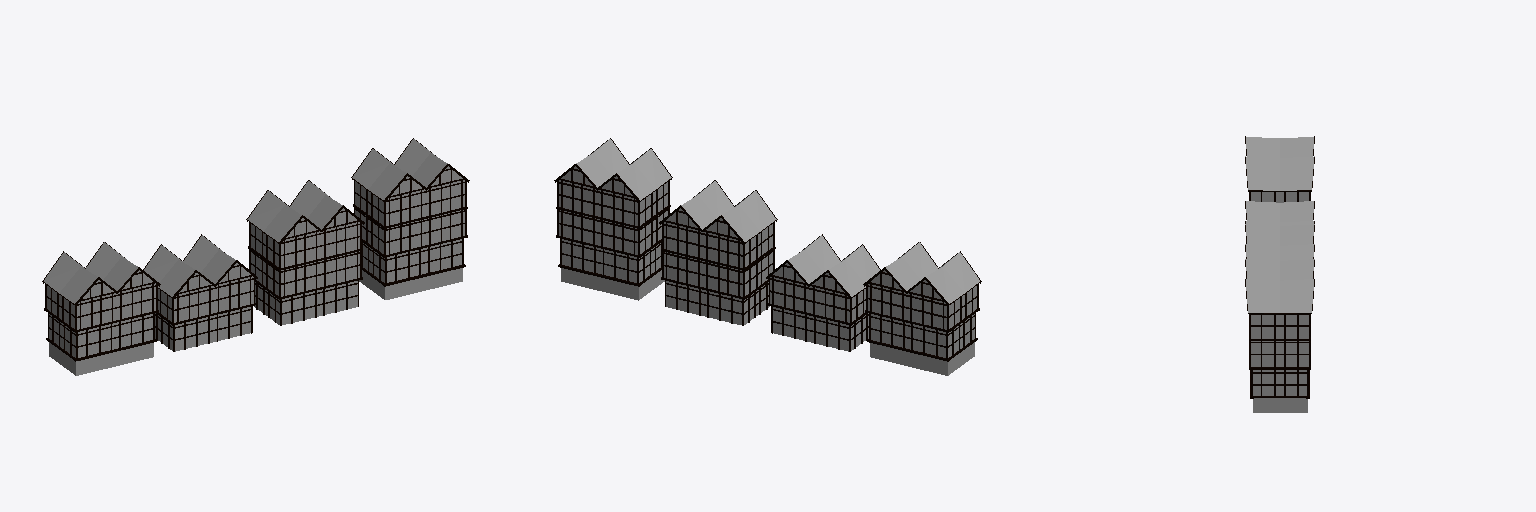
Rendered from HousePack1_2Upload.obj.
3 renders of one model, left to right at view 1: azimuth 30°, elevation 25°; view 2: azimuth 150°, elevation 25°; view 3: azimuth 270°, elevation 25°, orthographic.
Visible parts, largest first — view 1: House3_Roof_Cube.153, House2_Roof_Cube.122, House4_Roof_Cube.181, House1_Roof_Cube.008, House2_Level3_Cube.123, House4_Level3_Cube.180, House3_Level2_Cube.154, House1_Level2_Cube.006, House2_Level2_Cube.129, House3_Level1_Cube.155, House4_Level2_Cube.174, House2_Level1_Cube.124 (+14 smaller); view 2: House4_Roof_Cube.181, House3_Roof_Cube.153, House2_Roof_Cube.122, House1_Roof_Cube.008, House2_Level3_Cube.123, House4_Level3_Cube.180, House3_Level2_Cube.154, House1_Level2_Cube.006, House2_Level2_Cube.129, House3_Level1_Cube.155, House2_Level1_Cube.124, House4_Level1_Cube.179 (+14 smaller); view 3: House3_Roof_Cube.153, House4_Roof_Cube.181, House2_Roof_Cube.122, House1_Roof_Cube.008, House4_Level2_Cube.174, House4_Level3_Cube.180, House4_Level1_Cube.179, House4_Level0_Cube.201.
Boxes of the visible parts, box(x1,y1,x2,y2) form: House3_Roof_Cube.153: box(44, 242, 137, 303); House2_Roof_Cube.122: box(247, 181, 342, 241); House4_Roof_Cube.181: box(352, 139, 447, 199); House1_Roof_Cube.008: box(144, 235, 235, 296); House2_Level3_Cube.123: box(251, 208, 359, 267); House4_Level3_Cube.180: box(355, 166, 464, 225); House3_Level2_Cube.154: box(47, 270, 155, 329); House1_Level2_Cube.006: box(158, 263, 253, 322); House2_Level2_Cube.129: box(251, 251, 359, 296); House3_Level1_Cube.155: box(49, 314, 152, 357); House4_Level2_Cube.174: box(355, 210, 464, 254); House2_Level1_Cube.124: box(254, 281, 357, 324); House4_Roof_Cube.181: box(576, 139, 671, 200); House3_Roof_Cube.153: box(886, 242, 979, 303); House2_Roof_Cube.122: box(681, 181, 776, 241); House1_Roof_Cube.008: box(788, 235, 879, 296); House2_Level3_Cube.123: box(664, 208, 772, 267); House4_Level3_Cube.180: box(559, 166, 667, 225); House3_Level2_Cube.154: box(868, 270, 976, 329); House1_Level2_Cube.006: box(770, 263, 865, 322); House2_Level2_Cube.129: box(664, 252, 772, 296); House3_Level1_Cube.155: box(871, 314, 974, 357); House2_Level1_Cube.124: box(666, 281, 769, 324); House4_Level1_Cube.179: box(562, 239, 660, 282); House3_Roof_Cube.153: box(1245, 137, 1314, 190); House4_Roof_Cube.181: box(1245, 259, 1314, 312); House2_Roof_Cube.122: box(1245, 224, 1314, 260); House1_Roof_Cube.008: box(1246, 201, 1313, 225); House4_Level2_Cube.174: box(1251, 341, 1308, 366); House4_Level3_Cube.180: box(1251, 315, 1308, 338); House4_Level1_Cube.179: box(1253, 370, 1306, 395); House4_Level0_Cube.201: box(1253, 398, 1307, 412).
Bounding box in the file's own units: 37.98 × 11.55 × 5.85.